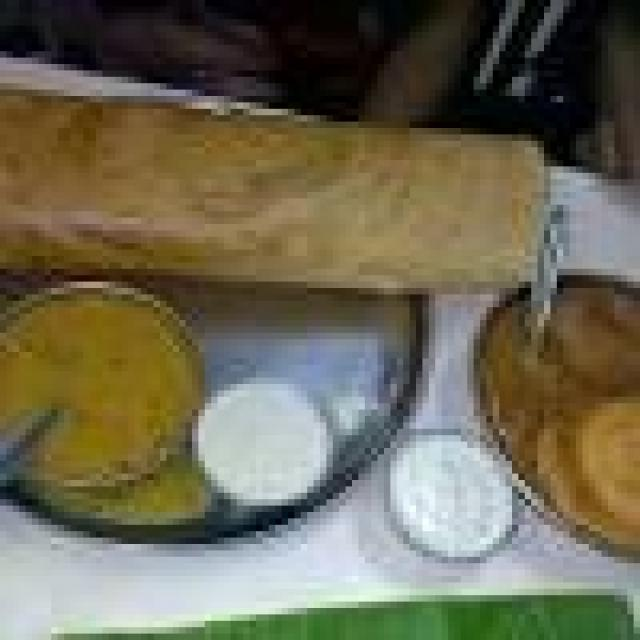dosa: (0, 96, 576, 307)
